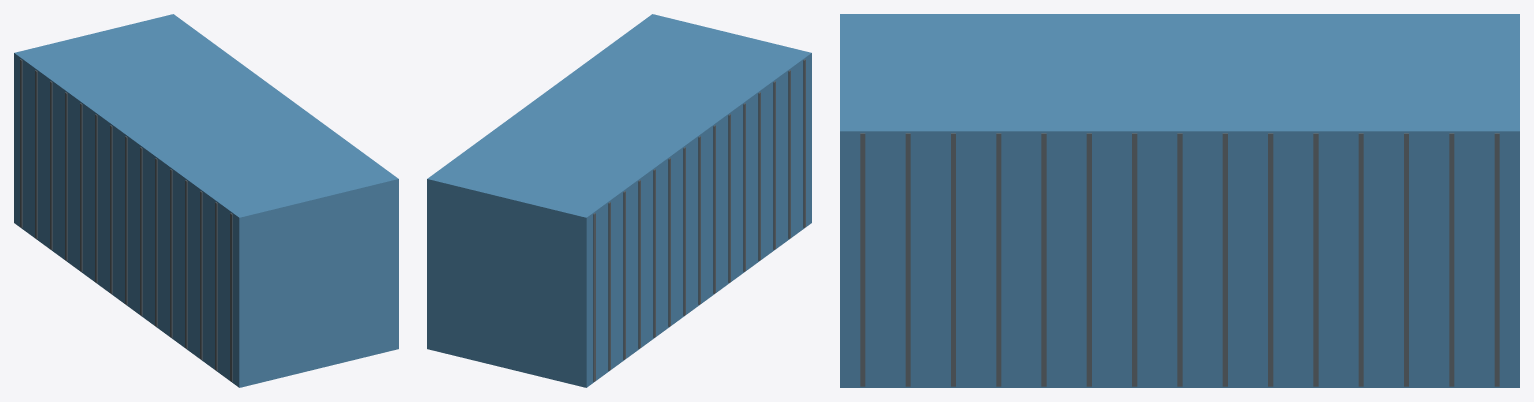
File: shipping_container.glb
The picture shows the model from 3 angles, left to right: view 1: azimuth 30°, elevation 25°; view 2: azimuth 150°, elevation 25°; view 3: azimuth 270°, elevation 25°; orthographic projection. The views are drawn at different scales.
Parts seen in each view (by area): view 1: part_0, part_1, part_2, part_3, part_4, part_5, part_6, part_7, part_8, part_9, part_10, part_11 (+4 smaller); view 2: part_0, part_9, part_10, part_11, part_12, part_13, part_14, part_15, part_1, part_2, part_3, part_4 (+4 smaller); view 3: part_0, part_1, part_2, part_4, part_5, part_6, part_7, part_8, part_9, part_10, part_11, part_12 (+4 smaller).
Boxes of the visible parts, left/top/right/bottom form: part_0: left=14, top=14, right=398, bottom=387; part_1: left=20, top=59, right=22, bottom=227; part_2: left=35, top=70, right=37, bottom=238; part_3: left=50, top=81, right=52, bottom=249; part_4: left=65, top=92, right=67, bottom=260; part_5: left=80, top=103, right=82, bottom=271; part_6: left=95, top=114, right=97, bottom=282; part_7: left=110, top=125, right=112, bottom=293; part_8: left=125, top=136, right=127, bottom=304; part_9: left=140, top=147, right=142, bottom=315; part_10: left=155, top=158, right=157, bottom=326; part_11: left=170, top=169, right=172, bottom=337; part_0: left=427, top=14, right=811, bottom=387; part_9: left=713, top=125, right=715, bottom=293; part_10: left=728, top=114, right=730, bottom=282; part_11: left=743, top=103, right=745, bottom=271; part_12: left=758, top=92, right=760, bottom=260; part_13: left=773, top=81, right=775, bottom=249; part_14: left=788, top=70, right=790, bottom=238; part_15: left=803, top=59, right=805, bottom=227; part_1: left=593, top=213, right=595, bottom=381; part_2: left=608, top=202, right=610, bottom=370; part_3: left=623, top=191, right=625, bottom=359; part_4: left=638, top=180, right=640, bottom=348; part_0: left=840, top=14, right=1519, bottom=387; part_1: left=1494, top=133, right=1499, bottom=386; part_2: left=1449, top=133, right=1454, bottom=386; part_4: left=1358, top=133, right=1363, bottom=386; part_5: left=1313, top=133, right=1318, bottom=386; part_6: left=1268, top=133, right=1273, bottom=386; part_7: left=1222, top=133, right=1227, bottom=386; part_8: left=1177, top=133, right=1182, bottom=386; part_9: left=1132, top=133, right=1137, bottom=386; part_10: left=1086, top=133, right=1091, bottom=386; part_11: left=1041, top=133, right=1046, bottom=386; part_12: left=996, top=133, right=1001, bottom=386.
Bounding box in the file's own units: 2.48 × 2.5 × 6.
